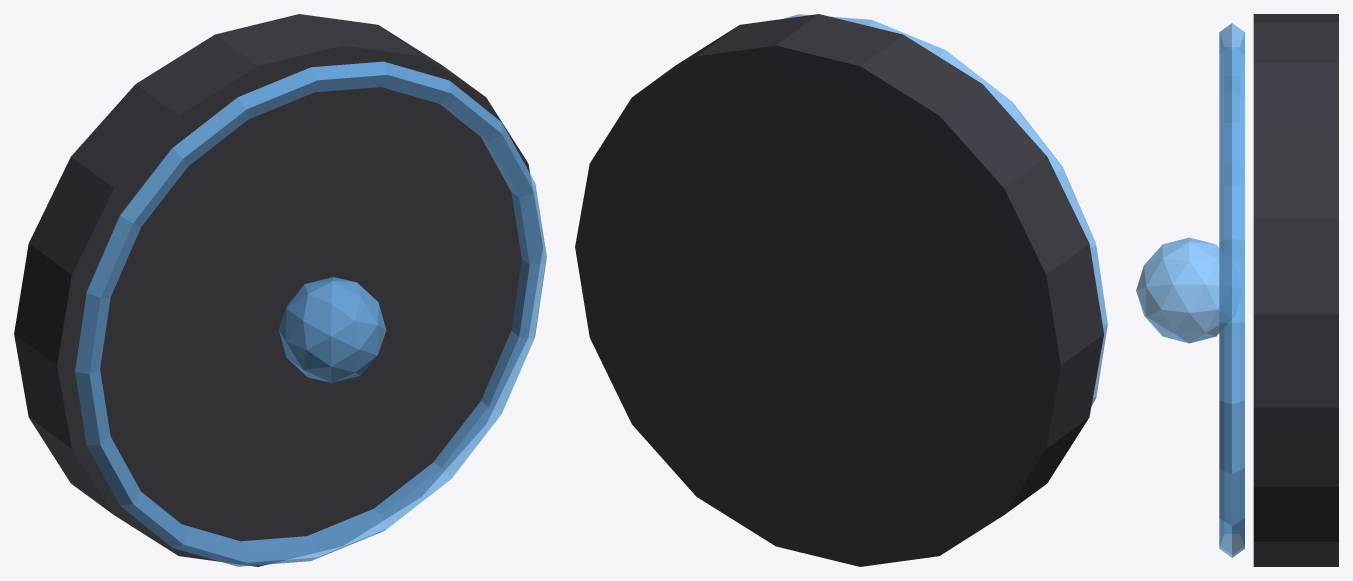
The model's file is display_item_rotator_base.glb.
3 renders of one model, left to right at view 1: azimuth 30°, elevation 25°; view 2: azimuth 150°, elevation 25°; view 3: azimuth 270°, elevation 25°, orthographic.
Visible parts, largest first — view 1: base, energy_ring, center_light; view 2: base, energy_ring; view 3: base, energy_ring, center_light.
Part boxes in pixels (x1,y1,x2,y2): base: [14, 14, 542, 566]; energy_ring: [75, 61, 546, 566]; center_light: [278, 277, 386, 382]; base: [575, 14, 1103, 566]; energy_ring: [783, 14, 1107, 406]; base: [1253, 14, 1338, 566]; energy_ring: [1219, 23, 1244, 557]; center_light: [1136, 237, 1241, 343].
Size of the model in its own units: 1.04 by 1.02 by 0.38.
